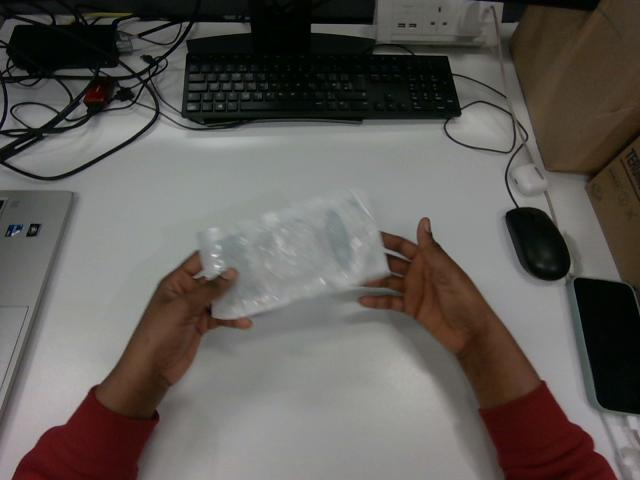gallipot: (198, 190, 388, 318)
